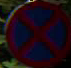No Stopping: (2, 1, 68, 67)
